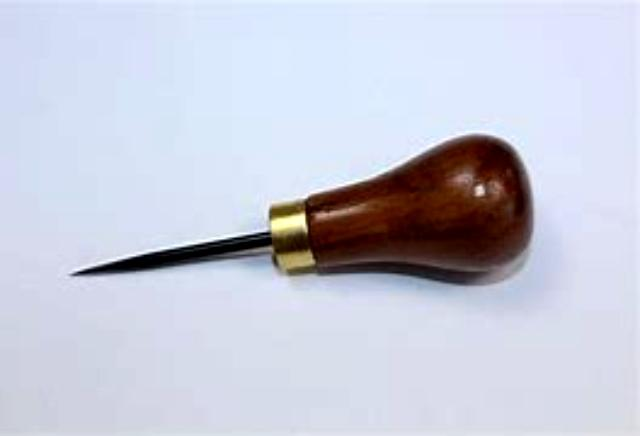ice pick: (70, 132, 536, 300)
